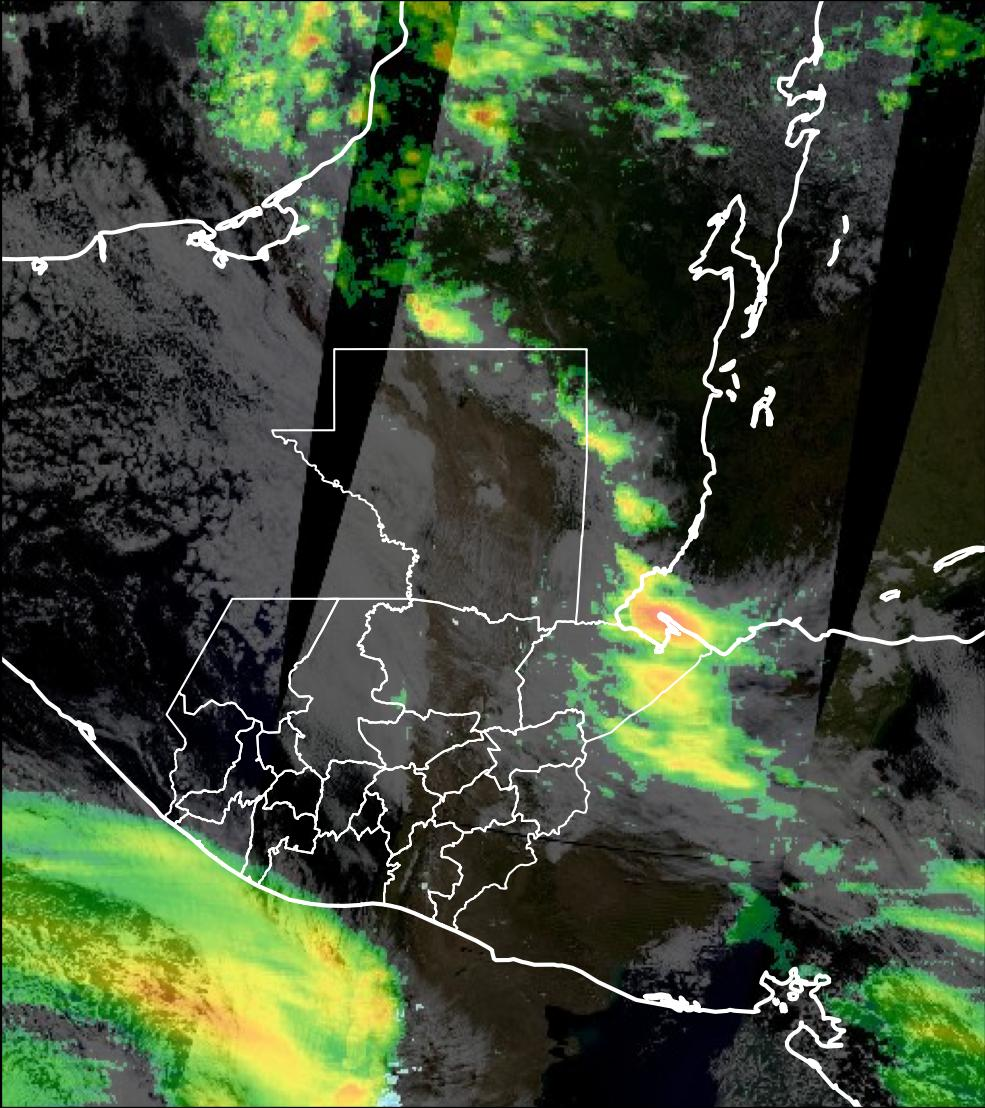precipitacion: (139, 972, 299, 1077), (623, 589, 712, 659)
